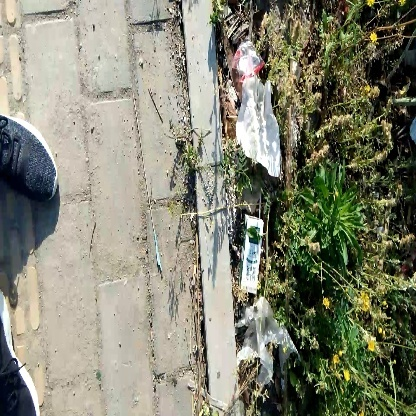milk-box: (239, 210, 271, 295)
